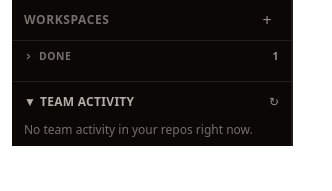
Scenario: Sidebar grouping › Done group is collapsed by default; clicking the header expands it
This screenshot has width=332, height=191.
Click the button "Done 1". click: (55, 56)
box: [12,45,291,69]
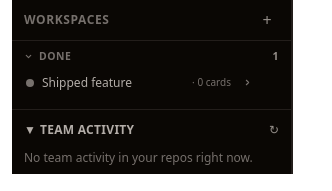
Expected: the button "Done 1" is expanded, [12,45,291,69]
Expected: the list item "Shipped feature · 0 cards" is shown, [26,74,255,91]
